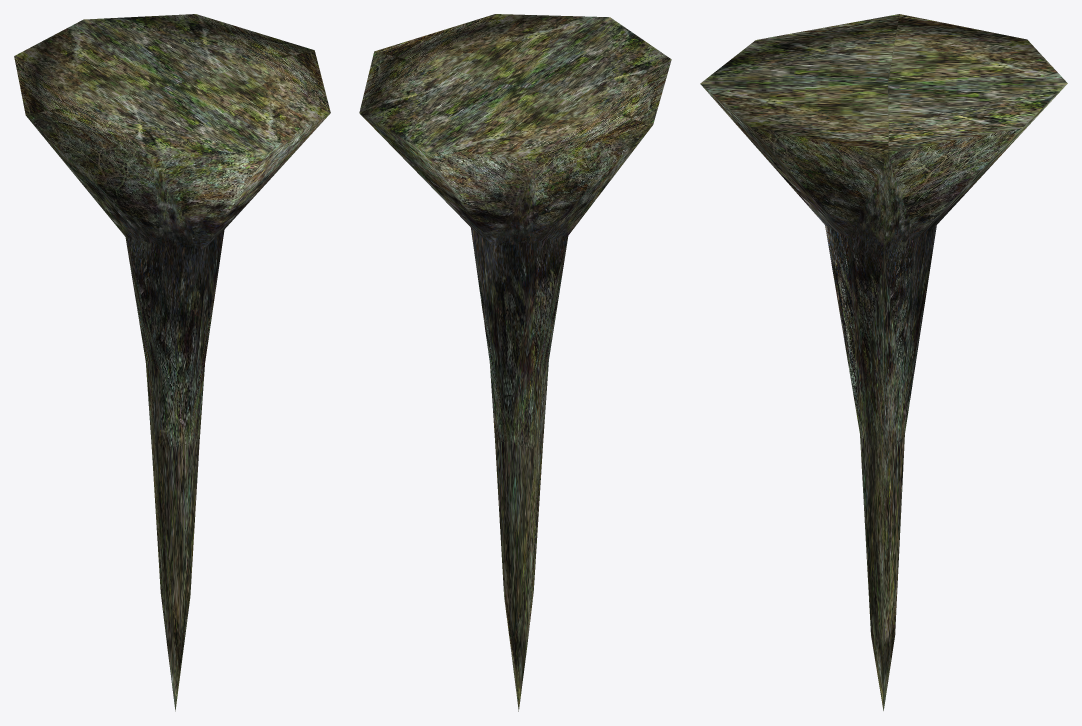
The model's file is thm_all_cave_stalagtite_damprock_a3_l1.fbx.
3 renders of one model, left to right at view 1: azimuth 30°, elevation 25°; view 2: azimuth 150°, elevation 25°; view 3: azimuth 270°, elevation 25°, orthographic.
Visible parts, largest first — view 1: mesh_node; view 2: mesh_node; view 3: mesh_node.
Boxes of the visible parts, x1=… form: mesh_node: x1=14, y1=14, x2=330, y2=711; mesh_node: x1=359, y1=14, x2=671, y2=711; mesh_node: x1=700, y1=14, x2=1067, y2=710.
Size of the model in its own units: 1.23 by 2.58 by 1.37.
